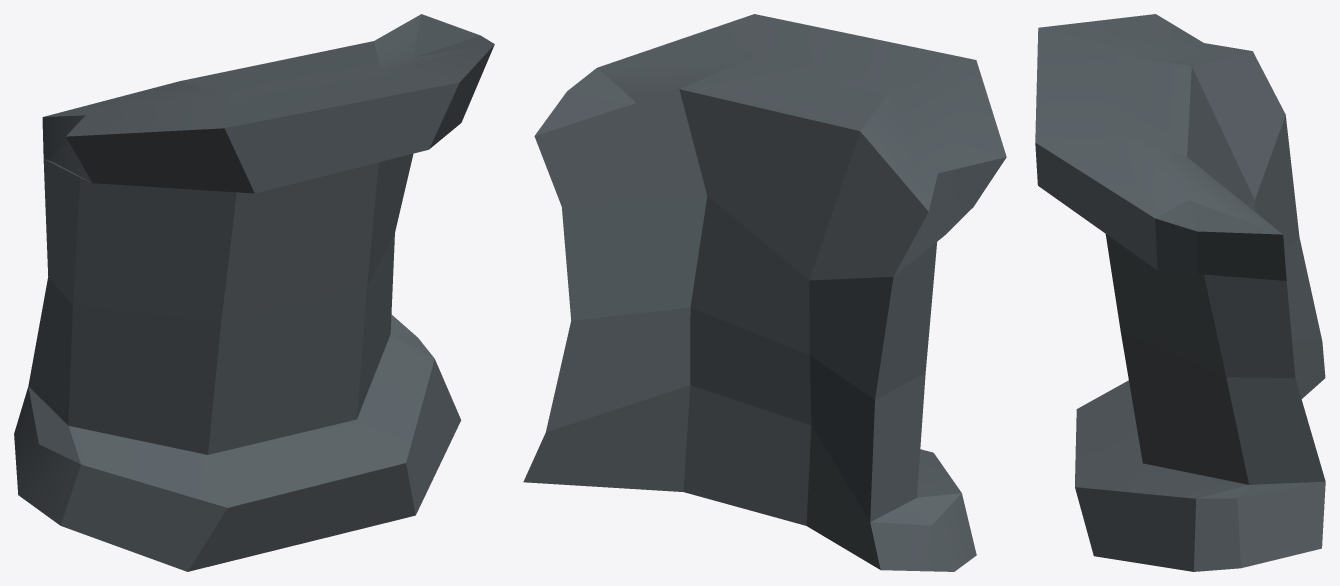
Rendered from Chr_KneeAttachLeft_02_Static.fbx.
3 renders of one model, left to right at view 1: azimuth 30°, elevation 25°; view 2: azimuth 150°, elevation 25°; view 3: azimuth 270°, elevation 25°, orthographic. The views are drawn at different scales.
Parts seen in each view (by area): view 1: Chr_KneeAttachLeft_02_Static; view 2: Chr_KneeAttachLeft_02_Static; view 3: Chr_KneeAttachLeft_02_Static.
Boxes of the visible parts, x1,y1,x2,y2 form: Chr_KneeAttachLeft_02_Static: (14, 14, 494, 571); Chr_KneeAttachLeft_02_Static: (523, 14, 1006, 571); Chr_KneeAttachLeft_02_Static: (1035, 14, 1325, 571).
Bounding box in the file's own units: 0.1752 × 0.1782 × 0.109.
